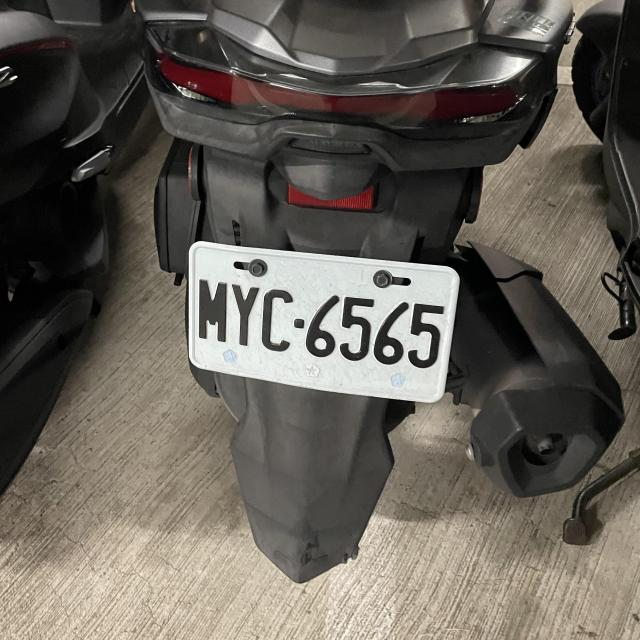W: (182, 243, 463, 403)
